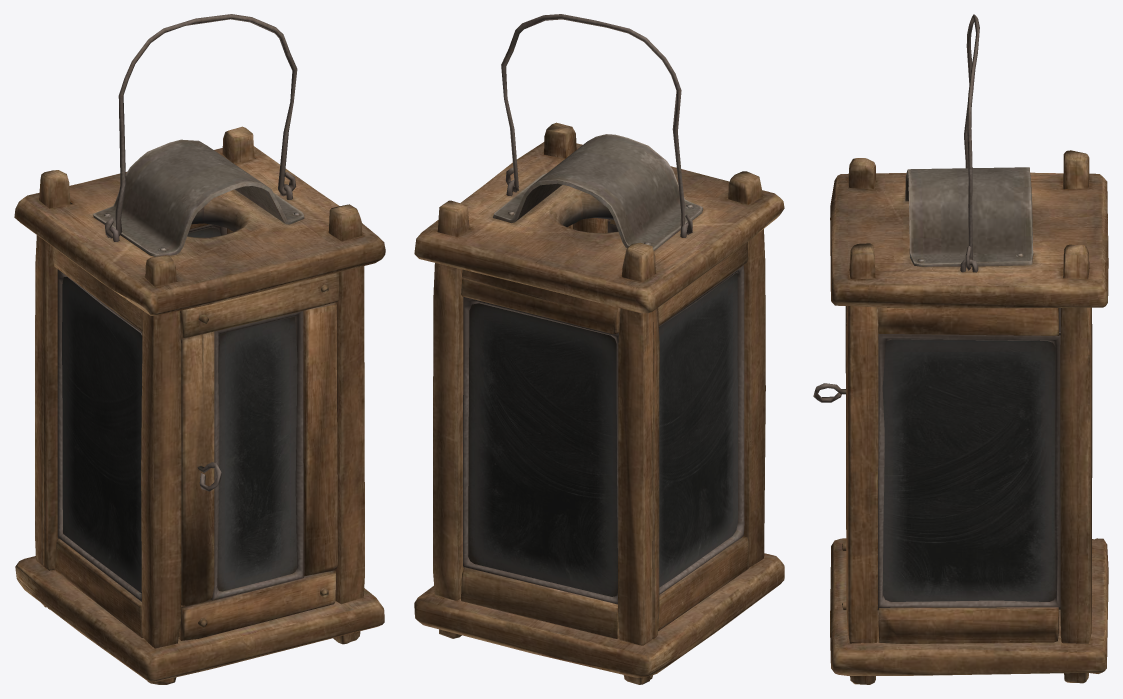
Rendered from wooden_lantern_01.glb.
3 renders of one model, left to right at view 1: azimuth 30°, elevation 25°; view 2: azimuth 150°, elevation 25°; view 3: azimuth 270°, elevation 25°, orthographic.
Parts seen in each view (by area): view 1: wooden_lantern_01; view 2: wooden_lantern_01; view 3: wooden_lantern_01.
Boxes of the visible parts, <box> form: wooden_lantern_01: <box>14,14,385,684</box>; wooden_lantern_01: <box>414,14,784,684</box>; wooden_lantern_01: <box>813,14,1108,684</box>.
Size of the model in its own units: 0.2211 by 0.5296 by 0.2342.
Materials: 2 (2 with a texture image).
